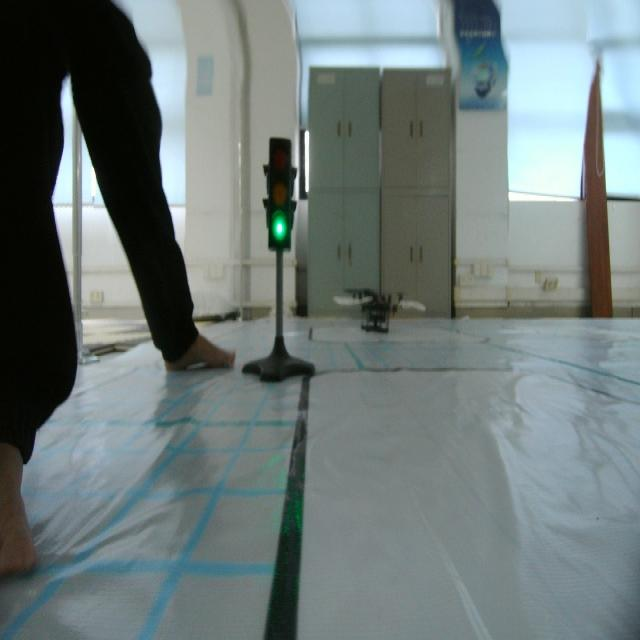green: (259, 130, 301, 258)
